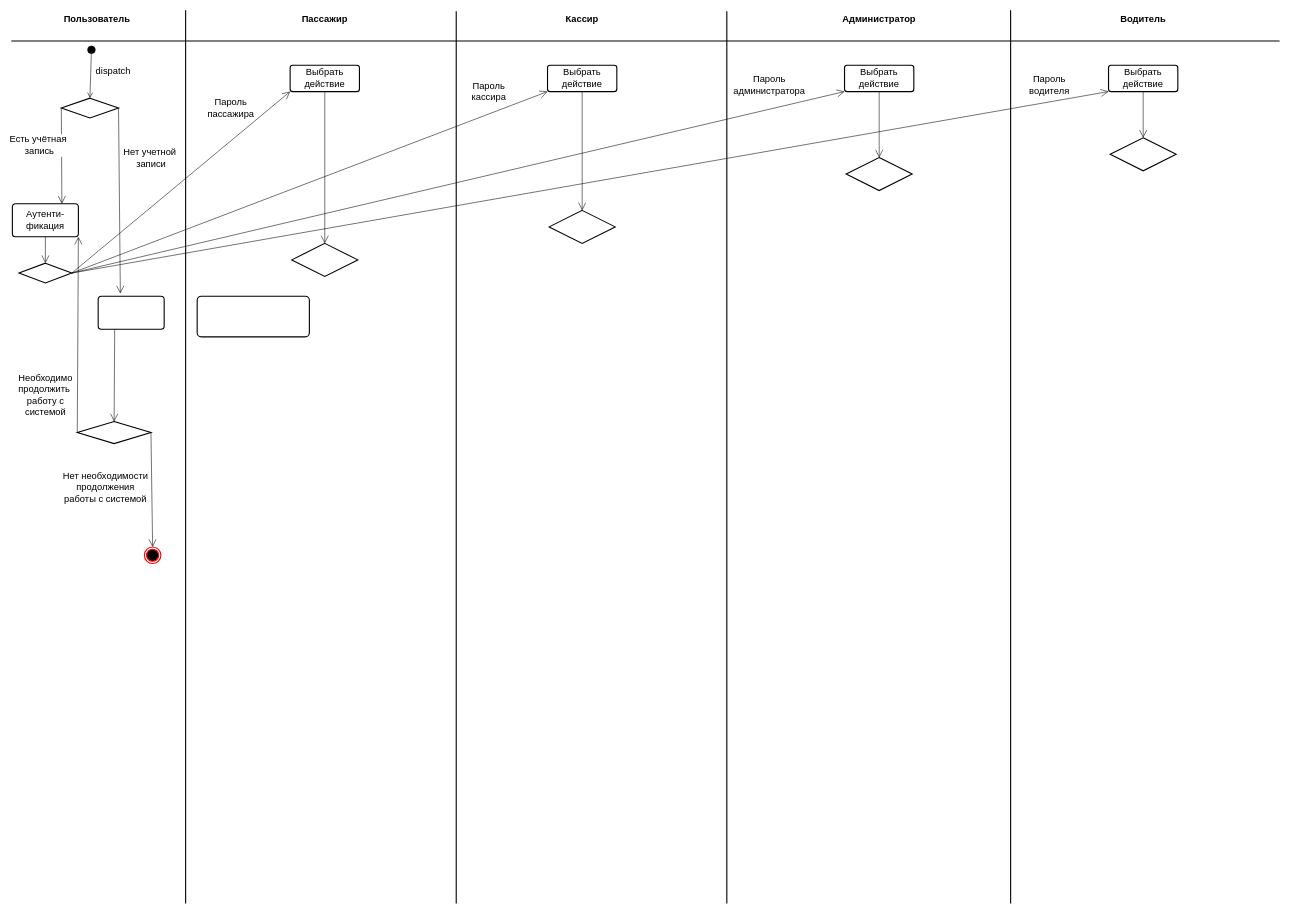
This 1290x913 diagram has some shape labels left out. Each missing label, with the centre of its shape:
"Просмотр информации о рейсах и маршрутах" belongs at (253,316).
"Регистрация нового пользователя" belongs at (130,312).
